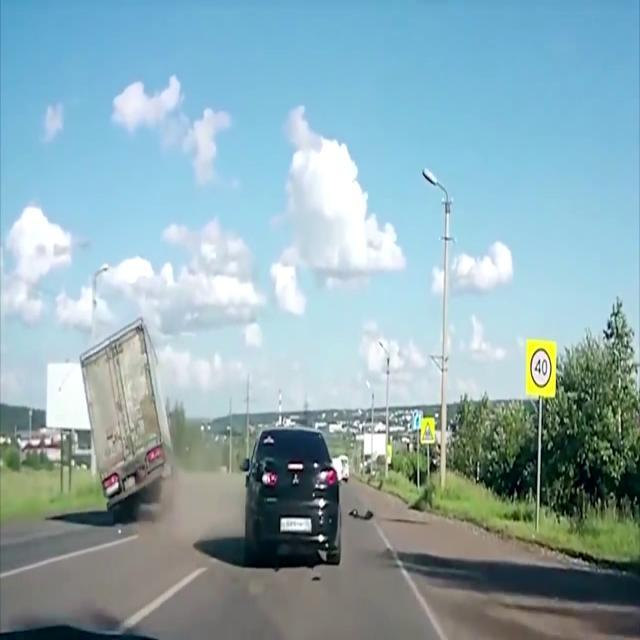normal: (215, 420, 371, 586)
single accident: (53, 313, 200, 534)
